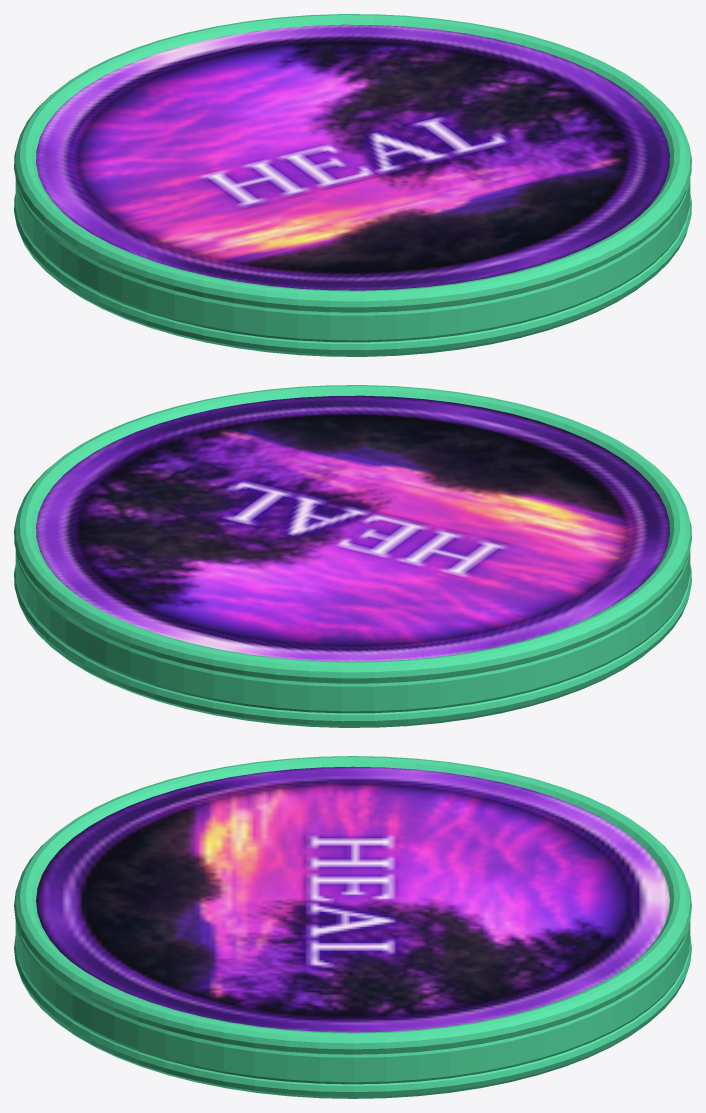
File: coin-heal.glb
3 views of the same model, one above another, from view 1: azimuth 30°, elevation 25°; view 2: azimuth 150°, elevation 25°; view 3: azimuth 270°, elevation 25° (orthographic).
Parts seen in each view (by area): view 1: FaceDiscFront, Rim, Coin_heal, Rim.001; view 2: FaceDiscFront, Rim, Coin_heal, Rim.001; view 3: FaceDiscFront, Rim, Coin_heal, Rim.001.
Boxes of the visible parts, bbox=[...] form: FaceDiscFront: bbox=[36, 24, 669, 290]; Rim: bbox=[14, 14, 691, 312]; Coin_heal: bbox=[15, 178, 690, 342]; Rim.001: bbox=[14, 194, 691, 356]; FaceDiscFront: bbox=[36, 395, 669, 661]; Rim: bbox=[14, 385, 691, 683]; Coin_heal: bbox=[15, 549, 690, 713]; Rim.001: bbox=[14, 565, 691, 727]; FaceDiscFront: bbox=[36, 766, 669, 1032]; Rim: bbox=[14, 756, 691, 1054]; Coin_heal: bbox=[15, 921, 690, 1084]; Rim.001: bbox=[14, 936, 691, 1098].
Bounding box in the file's own units: 2.01 × 0.21 × 2.01.
Materials: 2 (1 with a texture image).
